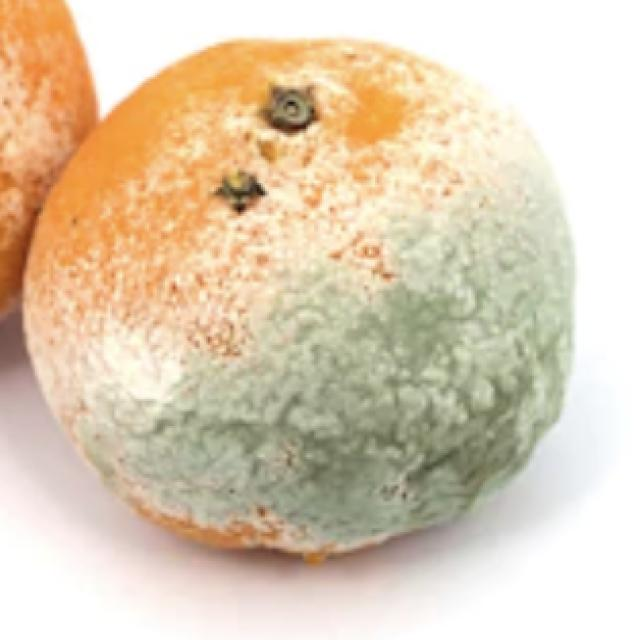sangat_busuk: (27, 40, 574, 557)
sedikit_busuk: (0, 0, 99, 311)
